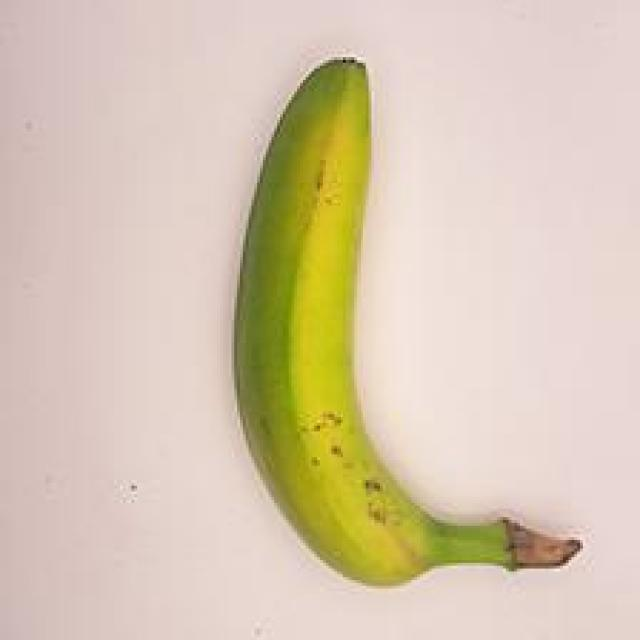Unripe: (199, 49, 605, 608)
